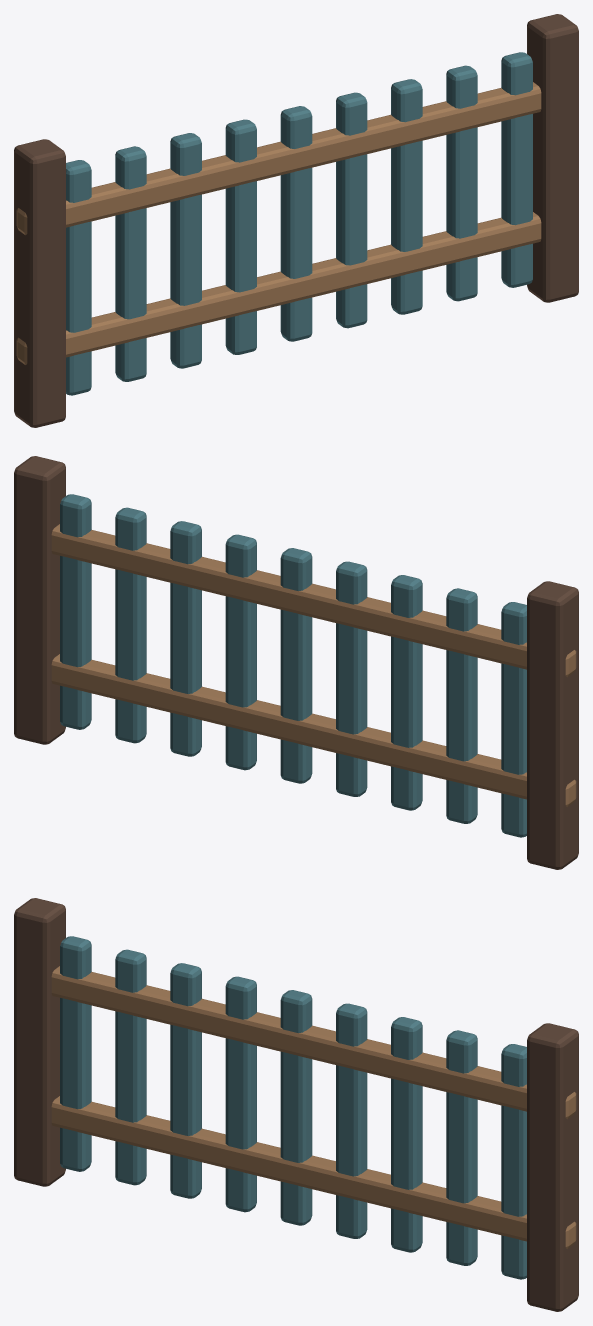
File: attachment_garden_fence_2m__attachments.glb
3 views of the same model, one above another, from view 1: azimuth 30°, elevation 25°; view 2: azimuth 150°, elevation 25°; view 3: azimuth 330°, elevation 25° (orthographic).
Parts seen in each view (by area): view 1: attachment_garden_fence_2m__attachments__mesh_00; view 2: attachment_garden_fence_2m__attachments__mesh_00; view 3: attachment_garden_fence_2m__attachments__mesh_00.
Boxes of the visible parts, bbox=[...] form: attachment_garden_fence_2m__attachments__mesh_00: bbox=[14, 14, 578, 427]; attachment_garden_fence_2m__attachments__mesh_00: bbox=[14, 456, 578, 869]; attachment_garden_fence_2m__attachments__mesh_00: bbox=[14, 898, 578, 1311].
Size of the model in its own units: 2 by 0.94 by 0.13.
